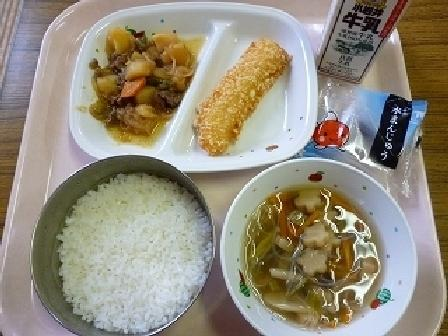Milk: (305, 0, 421, 80)
Rice: (36, 165, 199, 320)
Soups: (227, 171, 410, 331)
cooked food meat with vegetables: (79, 27, 192, 131)
fried cheese: (192, 39, 303, 154)
